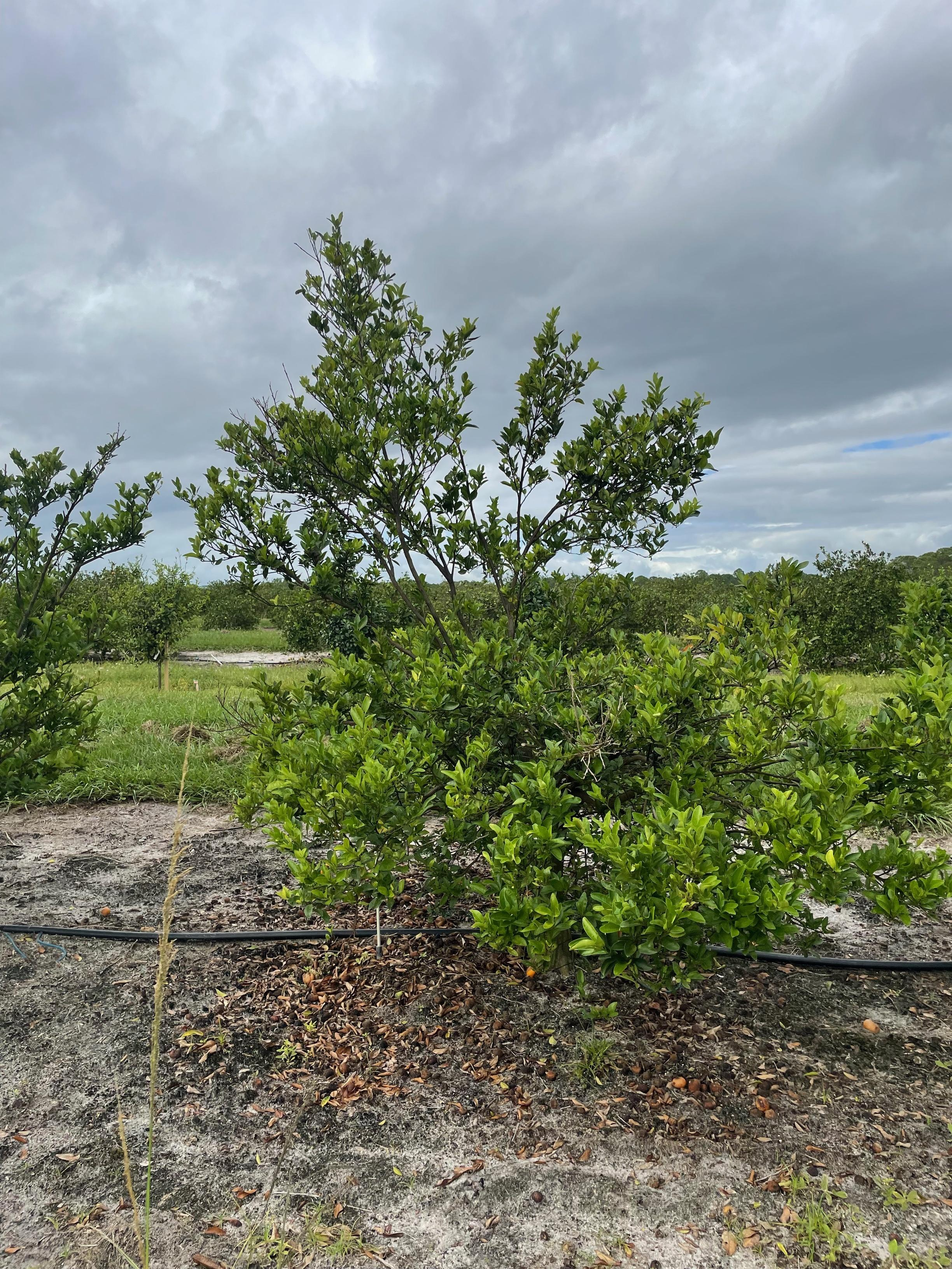fruit_on_tree: (860, 1016, 881, 1035), (751, 1095, 771, 1112), (685, 1077, 703, 1094), (669, 1074, 686, 1090), (523, 965, 537, 979), (99, 905, 112, 916)
